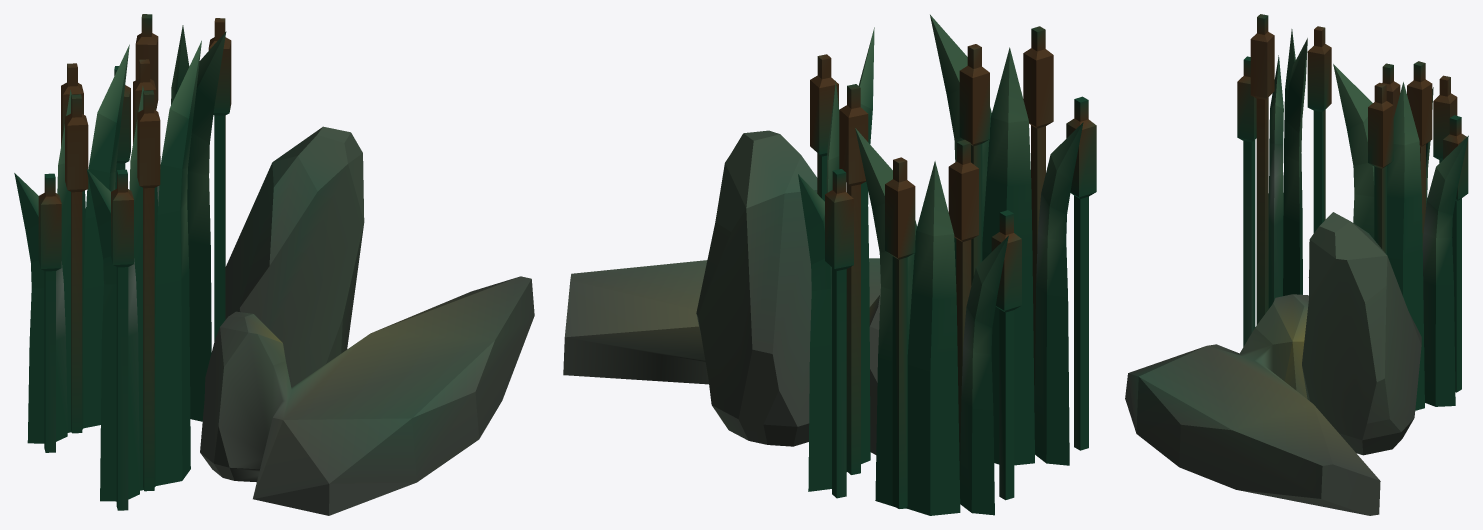
The model's file is water_1.fbx.
3 views of the same model, side by side, from view 1: azimuth 30°, elevation 25°; view 2: azimuth 150°, elevation 25°; view 3: azimuth 270°, elevation 25° (orthographic). The views are drawn at different scales.
Visible parts, largest first — view 1: Cylinder.000_Cylinder.006; view 2: Cylinder.000_Cylinder.006; view 3: Cylinder.000_Cylinder.006.
Part boxes in pixels (x1,y1,x2,y2): Cylinder.000_Cylinder.006: [14, 14, 534, 515]; Cylinder.000_Cylinder.006: [563, 14, 1096, 515]; Cylinder.000_Cylinder.006: [1125, 14, 1468, 515].
Bounding box in the file's own units: 229 × 204 × 166.
